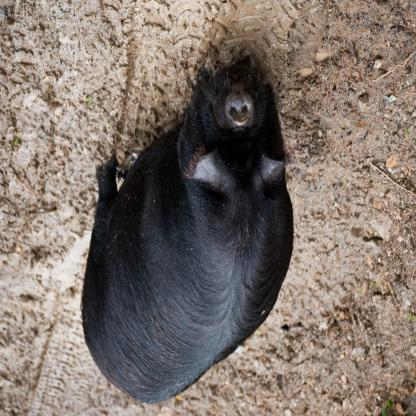boar: (82, 56, 293, 406)
